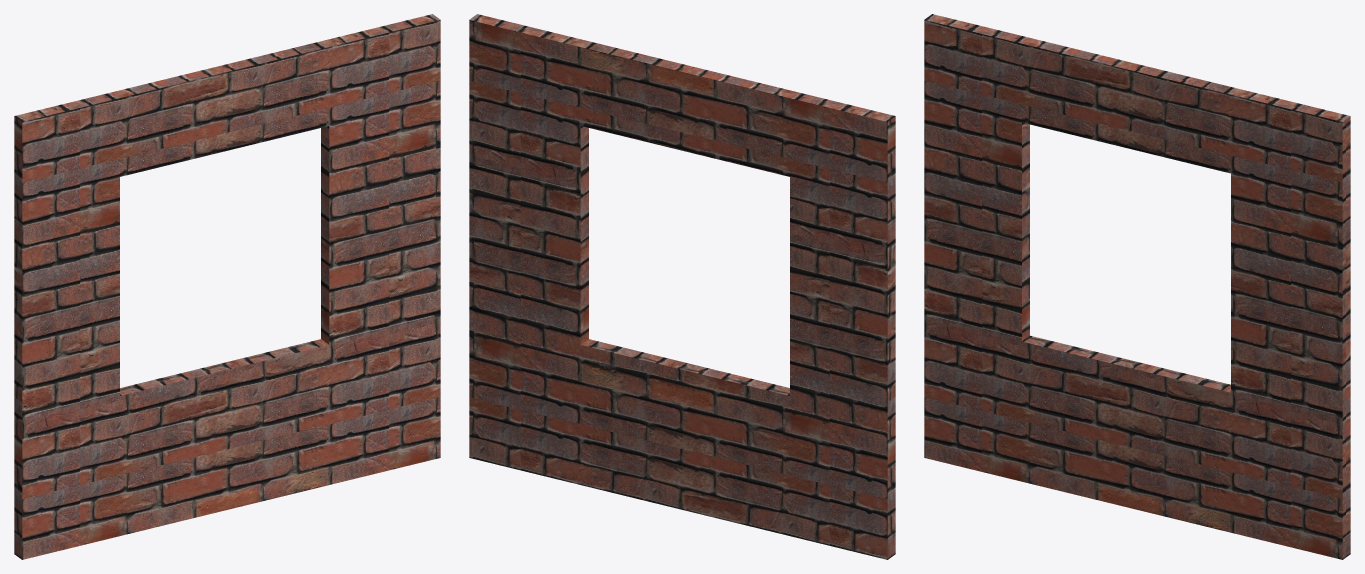
The model's file is Window_Wall.fbx.
3 views of the same model, side by side, from view 1: azimuth 30°, elevation 25°; view 2: azimuth 150°, elevation 25°; view 3: azimuth 330°, elevation 25° (orthographic).
Visible parts, largest first — view 1: Cube.035; view 2: Cube.035; view 3: Cube.035.
Boxes of the visible parts, left/top/right/bottom form: Cube.035: left=14, top=14, right=440, bottom=559; Cube.035: left=469, top=14, right=895, bottom=559; Cube.035: left=924, top=14, right=1350, bottom=559.
Bounding box in the file's own units: 300 × 300 × 10.
Materials: 1 (1 with a texture image).
